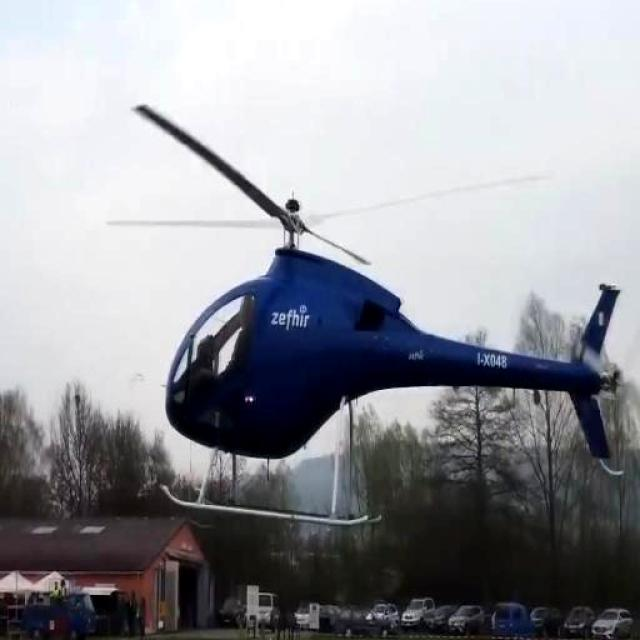drone: (102, 78, 638, 544)
